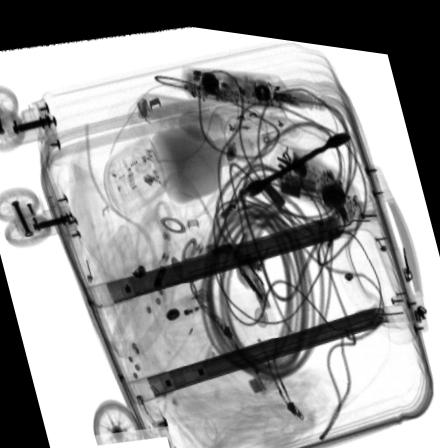Wrench: (243, 122, 351, 190)
